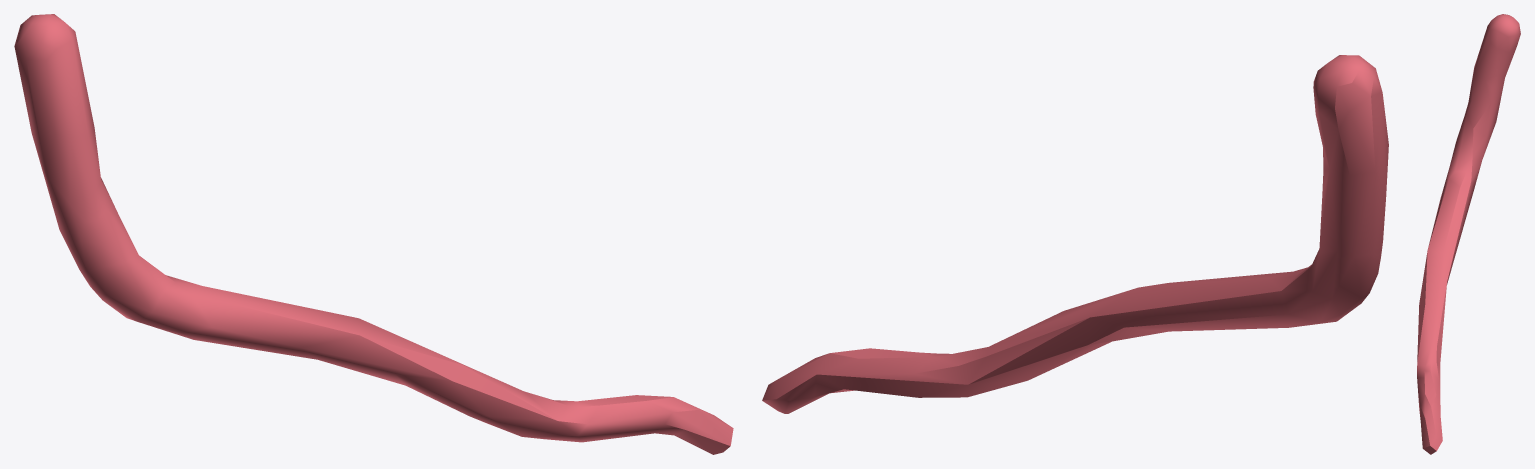
The model's file is fma76767_fj2730.glb.
The picture shows the model from 3 angles, left to right: view 1: azimuth 30°, elevation 25°; view 2: azimuth 150°, elevation 25°; view 3: azimuth 270°, elevation 25°; orthographic projection. The views are drawn at different scales.
Visible parts, largest first — view 1: FMA76767_FJ2730; view 2: FMA76767_FJ2730; view 3: FMA76767_FJ2730.
Boxes of the visible parts, x1,y1,x2,y2 form: FMA76767_FJ2730: [14, 14, 733, 454]; FMA76767_FJ2730: [762, 55, 1388, 413]; FMA76767_FJ2730: [1417, 14, 1520, 454].
Size of the model in its own units: 0.013 by 0.0103 by 0.00344.
